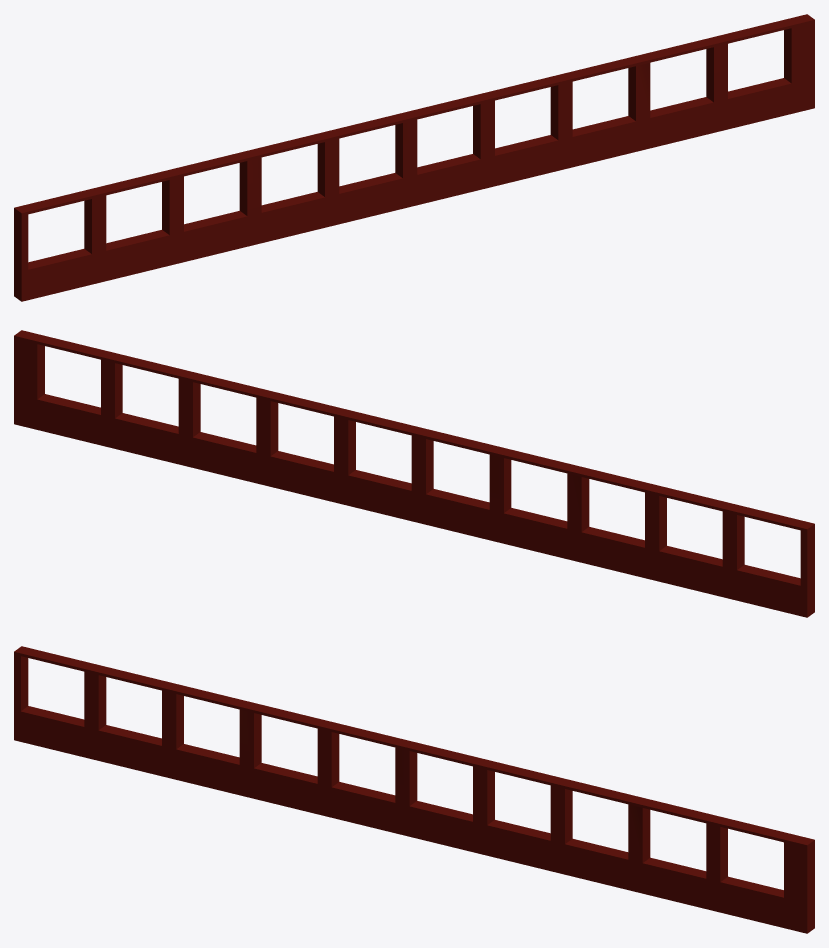
Rendered from wall15.fbx.
The picture shows the model from 3 angles, top to bottom: view 1: azimuth 30°, elevation 25°; view 2: azimuth 150°, elevation 25°; view 3: azimuth 330°, elevation 25°; orthographic projection.
Visible parts, largest first — view 1: wall15; view 2: wall15; view 3: wall15.
Boxes of the visible parts, box(x1,y1,x2,y2) form: wall15: box(14, 14, 814, 301); wall15: box(14, 330, 814, 617); wall15: box(14, 646, 814, 933).
Size of the model in its own units: 11813 by 1260 by 197.
